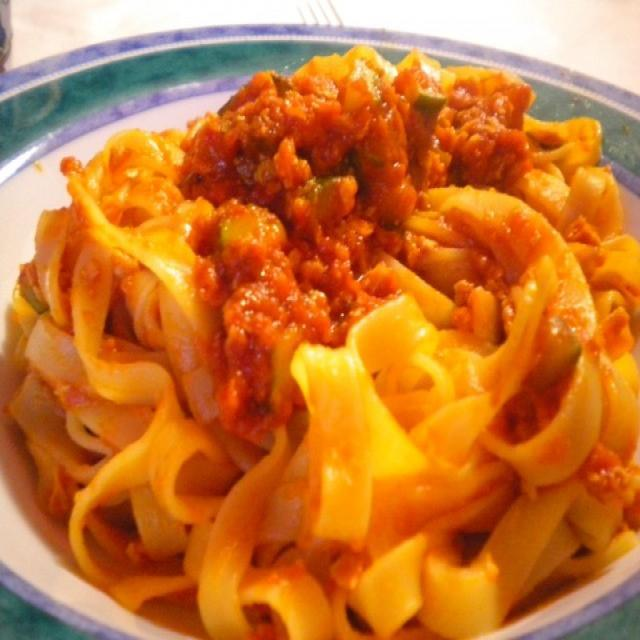Pasta al ragu: (34, 51, 628, 603)
